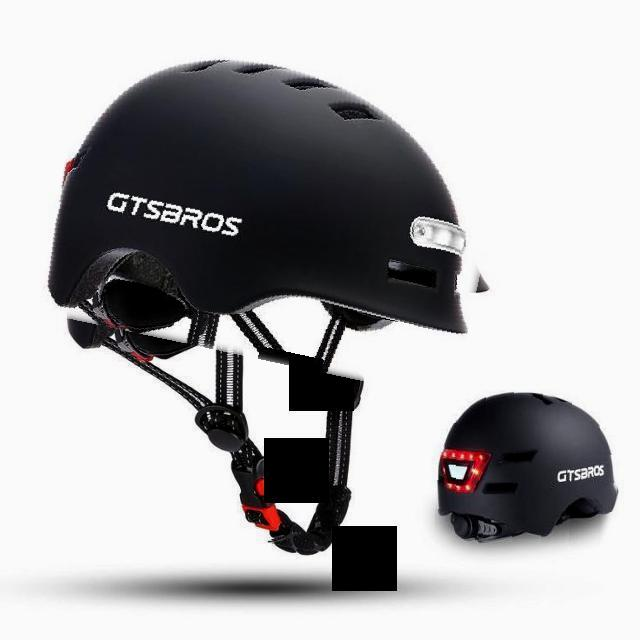helmet: (46, 44, 502, 380), (436, 390, 619, 544)
